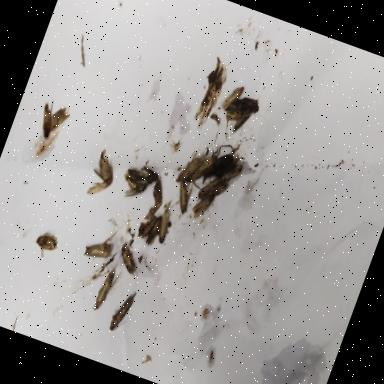pbw: (220, 88, 264, 134), (82, 152, 119, 200), (106, 286, 138, 336), (82, 224, 118, 263), (186, 147, 217, 187), (91, 264, 117, 310), (196, 170, 228, 207), (112, 241, 144, 278), (210, 150, 246, 182), (126, 162, 158, 190), (154, 204, 176, 242), (170, 177, 195, 210), (146, 178, 170, 210), (116, 176, 144, 202), (178, 152, 200, 184), (222, 81, 244, 112), (144, 216, 162, 248), (34, 230, 60, 252), (192, 191, 212, 219), (144, 195, 164, 220), (138, 218, 154, 240)
